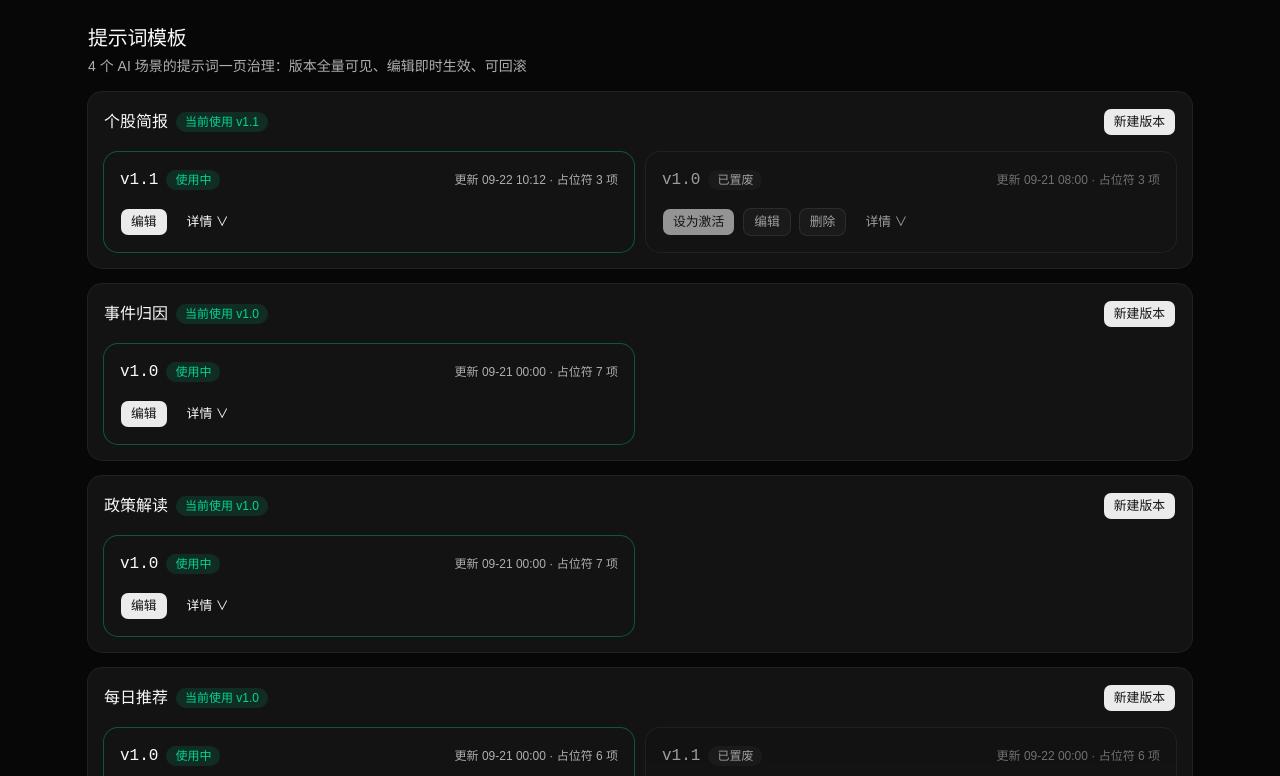
it: PromptTemplates 提示词模板页（T47） › 详情单查失败（404/30066）：展开区错误提示，页面不崩
This screenshot has width=1280, height=776.
Expected: the element with test id "prompt-card-1-v1.1" is shown, [104,152,634,252]
Step 1. Click the button with test id "prompt-detail-toggle-1-v1.1" → (208, 222), box [176,208,240,236]
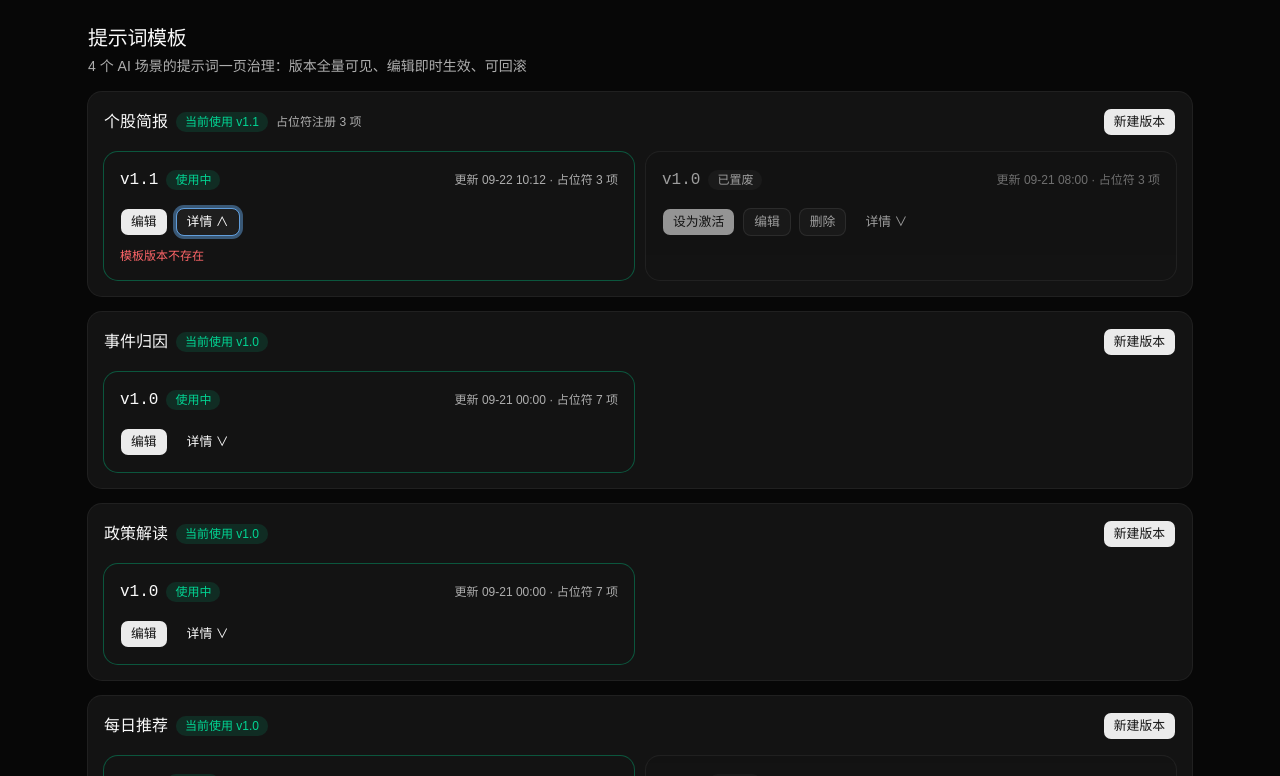
Result: the message reads "模板版本不存在" at [120,249,204,263]
